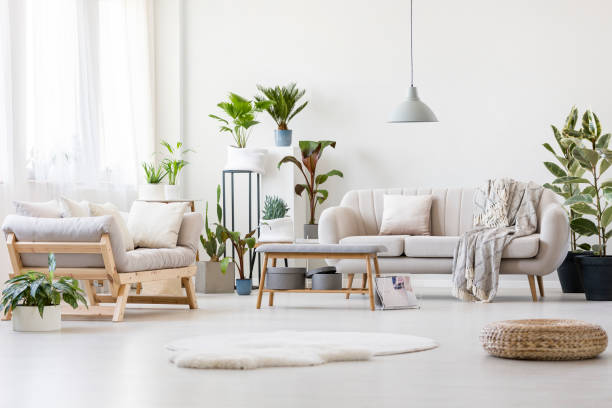large plant: (548, 117, 592, 293), (573, 117, 612, 302), (287, 137, 336, 237)
small plant: (0, 274, 92, 334), (208, 91, 263, 170), (196, 187, 235, 295), (259, 82, 308, 146), (222, 228, 260, 296), (260, 194, 296, 242), (162, 138, 190, 199), (138, 159, 166, 201)
sofa: (313, 178, 571, 300), (1, 194, 206, 324)
table: (252, 238, 386, 309)
